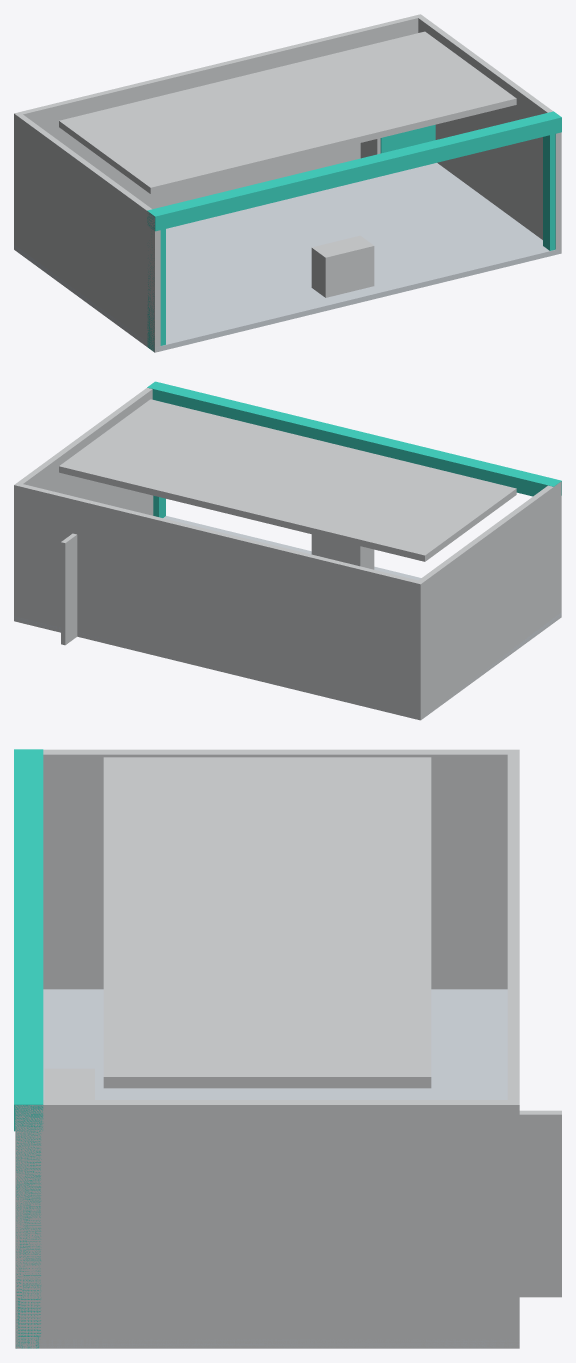
3 views of the same model, one above another, from view 1: azimuth 30°, elevation 25°; view 2: azimuth 150°, elevation 25°; view 3: azimuth 270°, elevation 25° (orthographic). The views are drawn at different scales.
Visible parts, largest first — view 1: Exhibition Booth Concept; view 2: Exhibition Booth Concept; view 3: Exhibition Booth Concept.
Boxes of the visible parts, x1,y1,x2,y2 form: Exhibition Booth Concept: (14,14,561,352); Exhibition Booth Concept: (14,381,561,720); Exhibition Booth Concept: (14,749,561,1348).
Bounding box in the file's own units: 10 × 3.34 × 6.52.
